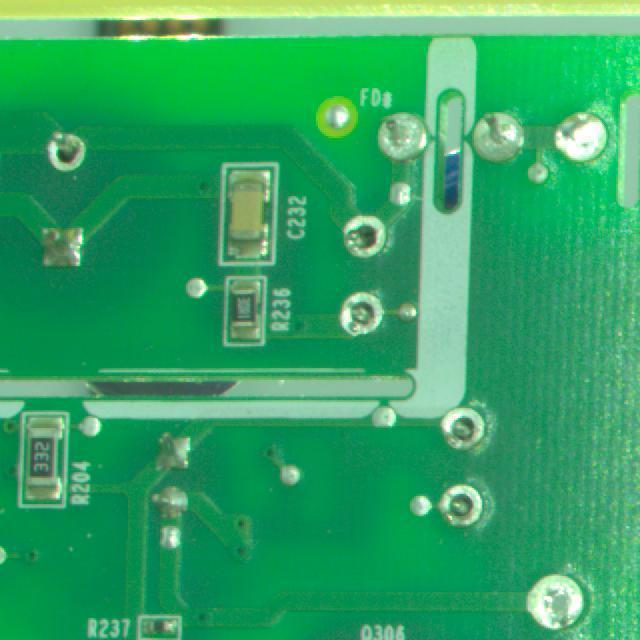Insufficient solder: (525, 561, 591, 634), (550, 109, 618, 167), (336, 206, 394, 271), (338, 286, 390, 343), (42, 128, 97, 180), (438, 404, 490, 457), (438, 480, 490, 531)
